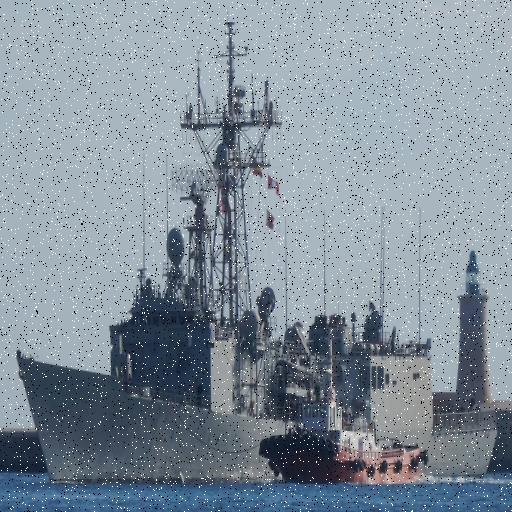Fragata: (15, 1, 502, 493)
